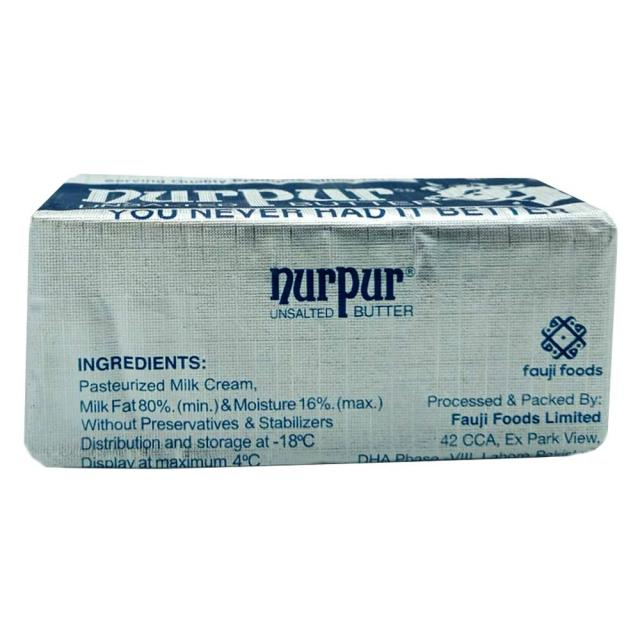butter: (24, 172, 618, 469)
